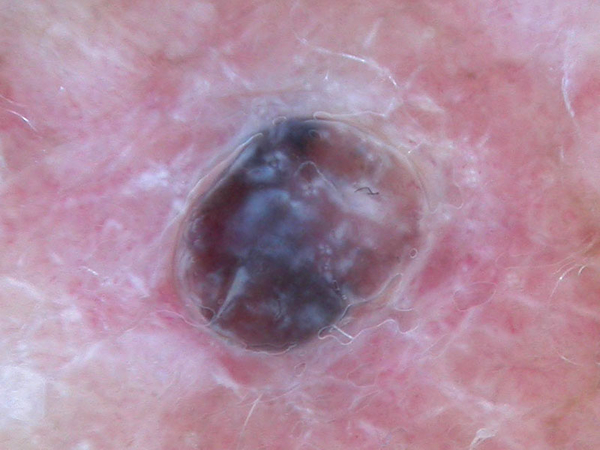Detected Lesion: (161, 101, 439, 359)
